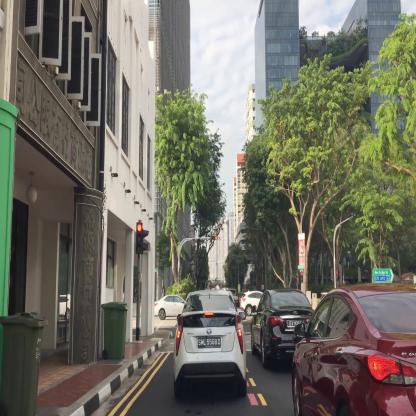red_traffic_light: (136, 222, 143, 254), (211, 236, 217, 240)
